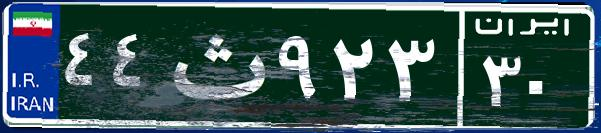0: (525, 38, 570, 115)
2: (330, 28, 385, 110)
3: (385, 28, 445, 110), (475, 38, 525, 113)
4: (57, 26, 110, 107), (110, 28, 158, 105)
9: (273, 28, 330, 110)
ث: (158, 15, 273, 115)
